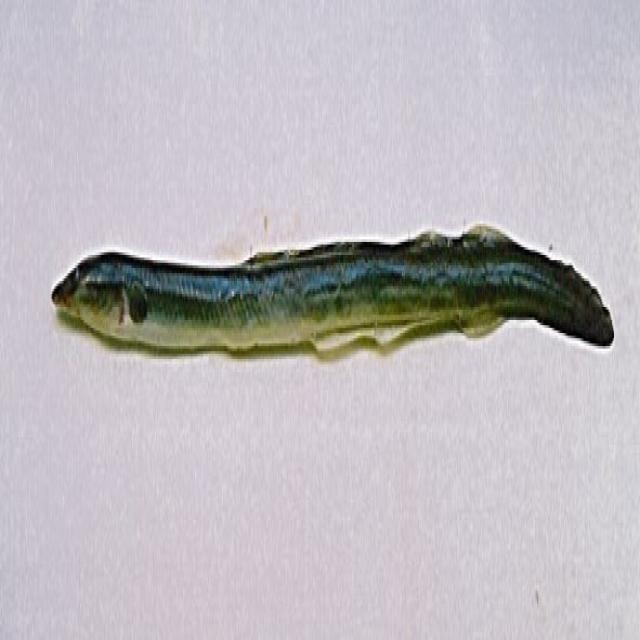Freshwater-Eel: (52, 167, 620, 426)
